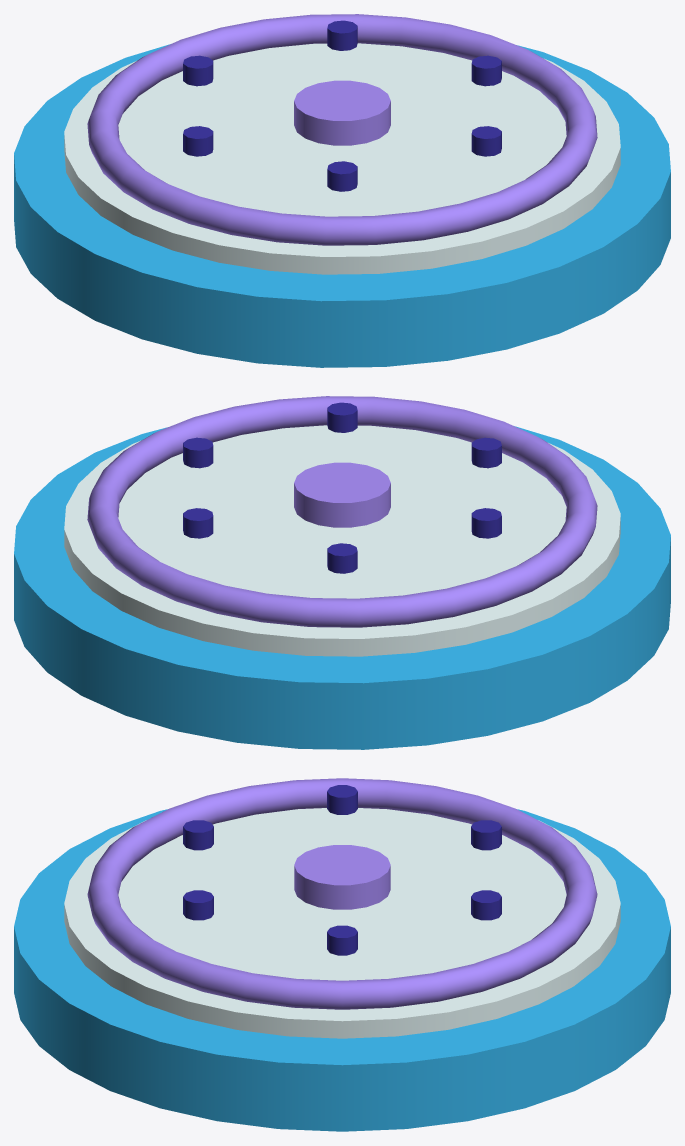
Rendered from toy_round_disc_s2.glb.
3 renders of one model, top to bottom at view 1: azimuth 30°, elevation 25°; view 2: azimuth 150°, elevation 25°; view 3: azimuth 270°, elevation 25°, orthographic.
Parts seen in each view (by area): view 1: solid_1, solid_2, solid_3, solid_4, solid_6, solid_7, solid_8, solid_10, solid_5, solid_9; view 2: solid_1, solid_2, solid_3, solid_4, solid_10, solid_8, solid_9, solid_6, solid_5, solid_7; view 3: solid_1, solid_2, solid_3, solid_4, solid_5, solid_6, solid_10, solid_7, solid_9, solid_8.
Boxes of the visible parts, x1,y1,x2,y2 form: solid_1: (14,44,670,367); solid_2: (64,43,620,274); solid_3: (87,14,597,245); solid_4: (294,80,390,145); solid_6: (471,126,501,156); solid_7: (327,161,357,191); solid_8: (183,126,213,156); solid_10: (327,20,357,50); solid_5: (471,55,501,86); solid_9: (183,55,213,86); solid_1: (14,426,670,749); solid_2: (64,425,620,656); solid_3: (87,396,597,627); solid_4: (294,462,390,527); solid_10: (183,508,213,538); solid_8: (471,508,501,538); solid_9: (327,543,357,573); solid_6: (327,402,357,432); solid_5: (183,437,213,468); solid_7: (471,437,501,468); solid_1: (14,809,670,1131); solid_2: (64,808,620,1038); solid_3: (87,778,597,1009); solid_4: (294,845,390,909); solid_5: (327,925,357,955); solid_6: (183,890,213,920); solid_10: (471,890,501,920); solid_7: (183,820,213,850); solid_9: (471,820,501,850); solid_8: (327,785,357,814).
Bounding box in the file's own units: 3.4 × 0.75 × 3.4.
